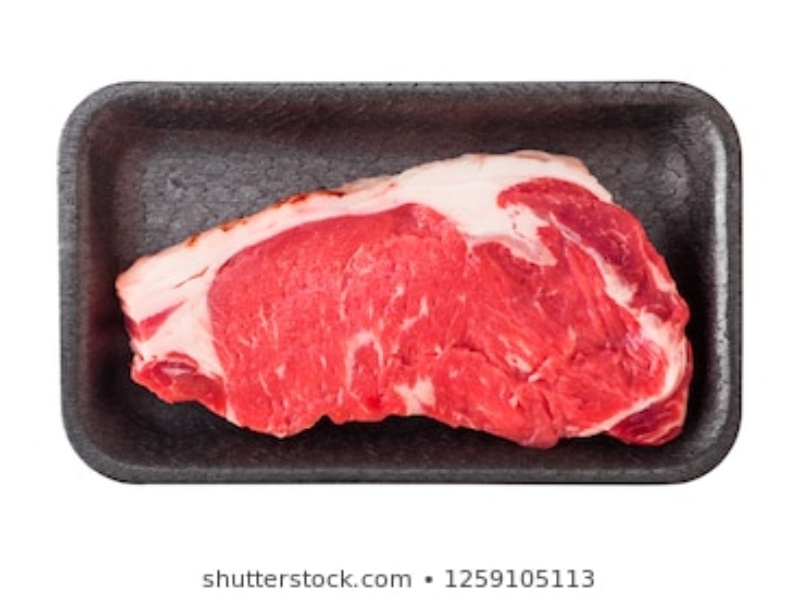plastic-tray: (51, 76, 750, 491)
